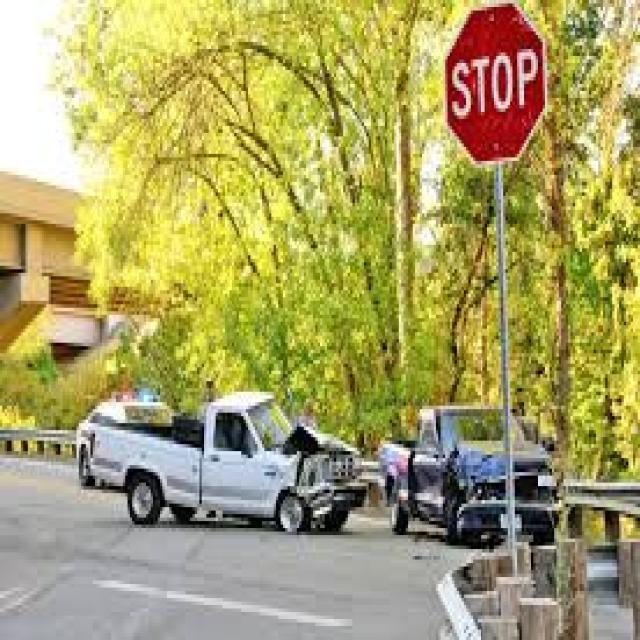Accident: (70, 376, 556, 548)
